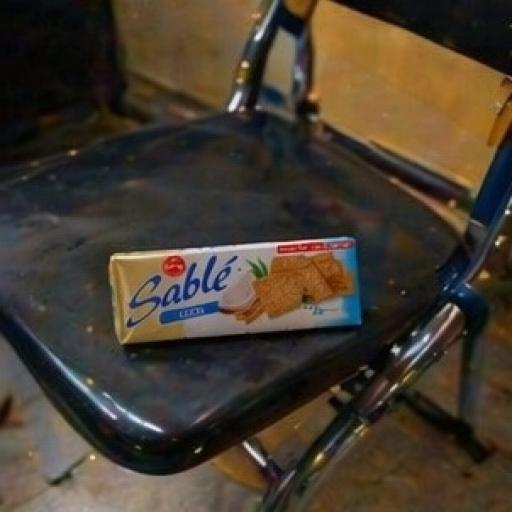sable: (52, 181, 443, 422)
